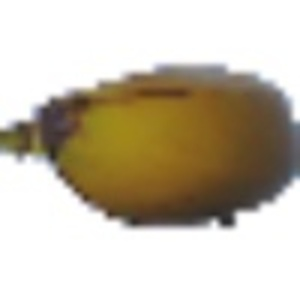banana: (3, 56, 299, 239)
